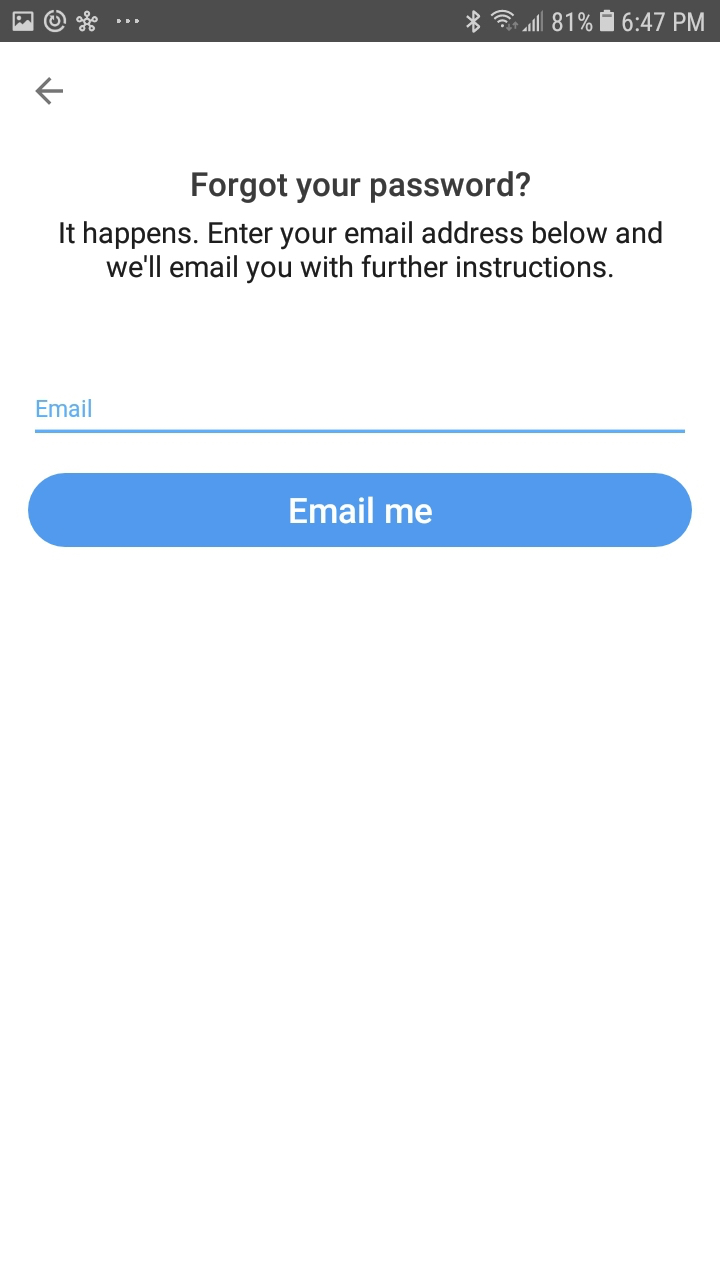EditText: (35, 399, 686, 434)
Icon: (36, 78, 64, 106)
Text: (61, 222, 663, 285), (192, 171, 531, 204), (37, 399, 92, 420)
TextButton: (29, 473, 693, 548)
UpperTaskBar: (1, 1, 720, 43)
